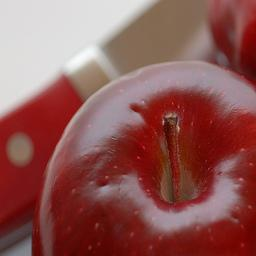apple: (32, 59, 256, 256)
